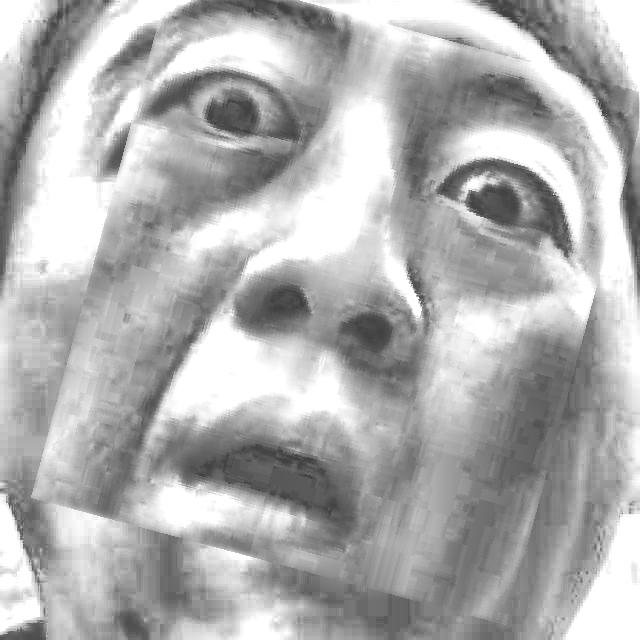fear: (62, 0, 617, 597)
